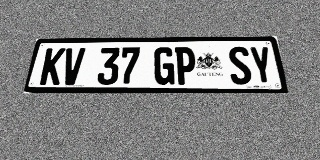3: (97, 48, 120, 85)
7: (118, 47, 140, 85)
G: (154, 47, 175, 85)
K: (39, 48, 66, 85)
P: (175, 47, 196, 85)
S: (227, 46, 253, 85)
V: (60, 48, 86, 85)
Y: (248, 46, 275, 85)
